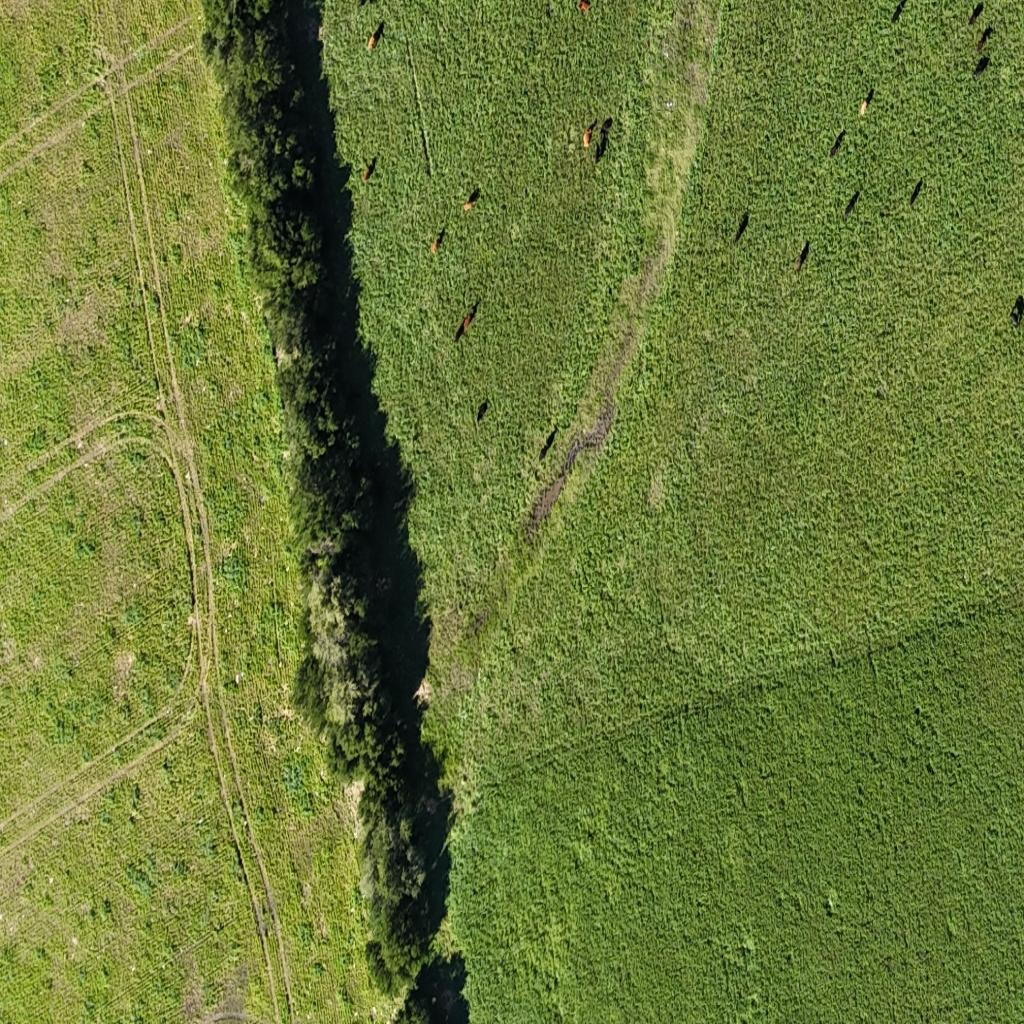cow: (457, 296, 481, 342), (596, 118, 614, 164), (538, 429, 557, 463), (734, 210, 749, 244), (844, 189, 859, 221), (367, 21, 383, 51), (796, 240, 810, 274), (582, 119, 597, 150), (462, 191, 480, 215), (978, 25, 994, 51), (973, 54, 990, 78), (968, 2, 984, 27), (892, 0, 908, 25), (830, 130, 844, 158), (431, 226, 445, 254), (910, 177, 922, 207), (454, 317, 467, 344), (362, 158, 376, 182), (477, 399, 489, 424), (1016, 295, 1024, 326), (600, 117, 613, 136), (864, 86, 875, 108), (578, 0, 590, 14), (860, 99, 868, 117), (357, 0, 369, 9), (545, 2, 552, 16), (431, 241, 438, 255), (567, 128, 573, 143)
